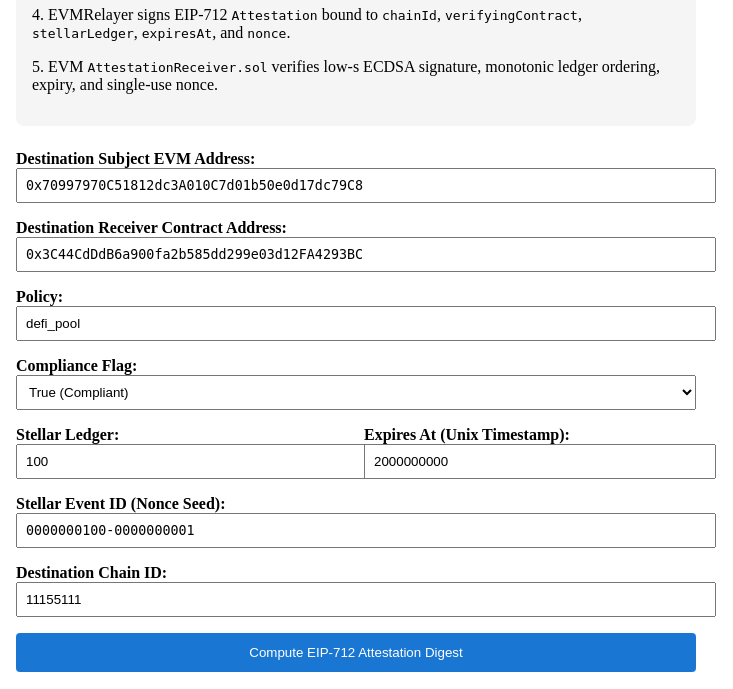
Test case: Frontend Core Components and Wallet/KYC Flows › BridgePage computes valid EIP-712 digest
The width and height of the screenshot is (733, 689).
(page scrolled)
What coordinates should you click on to do the following:
click the button "Compute EIP-712 Attestation Digest"
I would click on:
 (356, 653)
Its box is x1=16 y1=633 x2=696 y2=672.
(page scrolled)
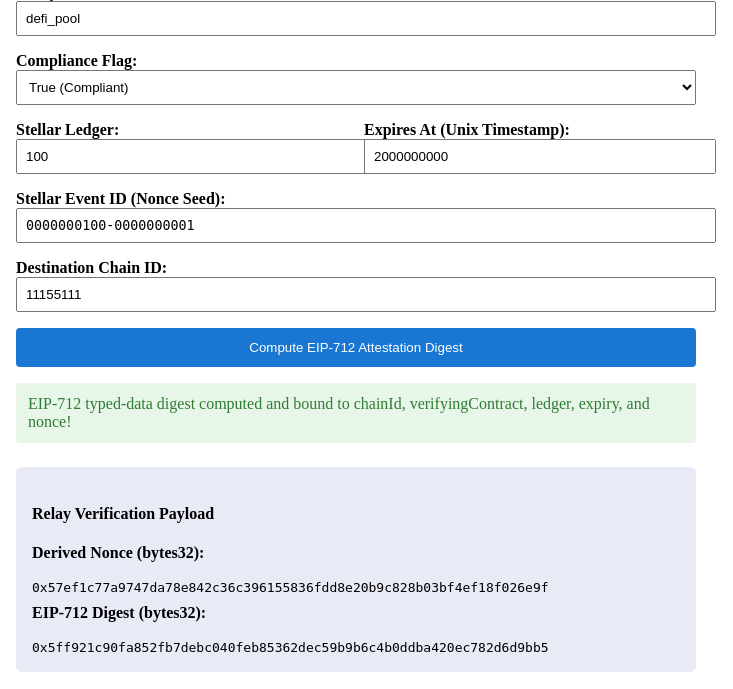
Expected: the heading "Relay Verification Payload" is shown, x1=32 y1=504 x2=214 y2=522
Expected: the text "Derived Nonce (bytes32):" is shown, x1=32 y1=544 x2=204 y2=561
Expected: the text "EIP-712 Digest (bytes32):" is shown, x1=32 y1=604 x2=206 y2=621
